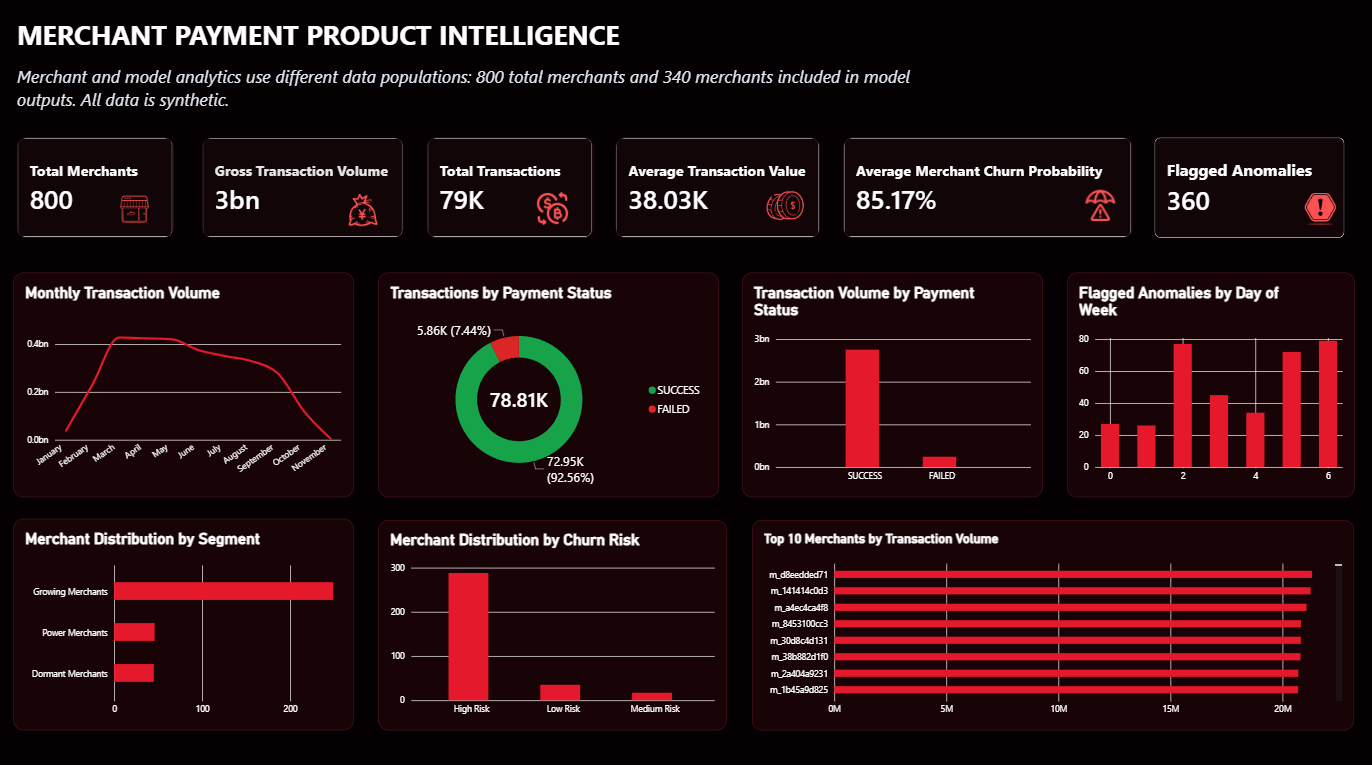

What the dashboard file says about the page in this screenshot:
{"tool":"powerbi","page":{"name":"Page 1","canvas":[1920,1080],"ordinal":0},"visuals":[{"type":"cardVisual","fields":{"Data":["Churn model.Total Transaction Volume"]},"box":[286.7,198.3,281.7,140],"z":0},{"type":"cardVisual","fields":{"Data":["Churn model.Total Transactions"]},"box":[600,198.3,231.7,140],"z":1000},{"type":"cardVisual","fields":{"Data":["Avg(Fact_Churn.churn_probability)"]},"box":[1181.7,198.3,403.3,140],"z":2000},{"type":"cardVisual","fields":{"Data":["Churn model.Average Transaction Value"]},"box":[863.3,198.3,285,140],"z":3000},{"type":"cardVisual","title":"Flagged Anomalies by Hour of Day","fields":{"Data":["Sum(Fact_Fraud.is_fraud)"]},"box":[1615,198.3,265,140],"z":4000},{"type":"lineChart","title":"Monthly Transaction Volume","fields":{"Category":["Fact_Transactions.transaction_timestamp.Variation.Date Hierarchy.Month"],"Y":["Sum(Fact_Transactions.amount)"]},"box":[23.3,386.7,475,313.3],"z":5000},{"type":"donutChart","title":"\tTransactions by Payment Status","fields":{"Category":["Fact_Transactions.status"],"Y":["CountNonNull(Fact_Transactions.transaction_id)"]},"box":[531.7,386.7,475,313.3],"z":6000},{"type":"clusteredBarChart","title":"\tMerchant Distribution by Segment","fields":{"Category":["Merchant_Segments.Segment_Name"],"Y":["CountNonNull(Merchant_Segments.merchant_id)"]},"box":[23.3,731.7,475,295],"z":7000},{"type":"clusteredColumnChart","title":"Merchant Distribution by Churn Risk","fields":{"Category":["Fact_Churn.Churn_Risk_Level"],"Y":["CountNonNull(Fact_Churn.merchant_id)"]},"box":[531.7,733.3,486.7,293.3],"z":8000},{"type":"clusteredColumnChart","title":"Transaction Volume by Payment Status","fields":{"Category":["Fact_Transactions.status"],"Y":["Sum(Fact_Transactions.amount)"]},"box":[1040,386.7,420,313.3],"z":9000},{"type":"clusteredBarChart","title":"Top 10 Merchants by Transaction Volume","fields":{"Category":["Fact_Transactions.merchant_id"],"Y":["Sum(Fact_Transactions.amount)"]},"box":[1053.3,733.3,840,293.3],"z":10000},{"type":"clusteredColumnChart","title":"Flagged Anomalies by Day of Week","fields":{"Category":["Fact_Fraud.day_of_week"],"Y":["Sum(Fact_Fraud.is_fraud)"]},"box":[1493.3,386.7,401.7,313.3],"z":11000},{"type":"textbox","box":[28.3,30,1495,68.3],"z":12000},{"type":"textbox","box":[28.3,98.3,1268.3,81.7],"z":13000},{"type":"cardVisual","fields":{"Data":["Churn model.Total Merchants"]},"box":[28.3,198.3,218.3,140],"z":14000},{"type":"image","box":[1811.7,271.7,68.3,48.3],"z":14002},{"type":"image","box":[1495,270,90,48.3],"z":14003},{"type":"image","box":[1050,251.7,98.3,85],"z":14004},{"type":"image","box":[740,270,71.7,55],"z":14005},{"type":"image","box":[476.7,271.7,68.3,55],"z":14006},{"type":"image","box":[150,271.7,83.3,53.3],"z":14007}]}

Visuals, with their boxes in screenshot pixels (x1, y1, x2, y2), scaled from the page's 1920x1080 canvas onto the 1372x765 screenshot:
cardVisual - Churn model.Total Transaction Volume: l=205, t=140, r=406, b=240
cardVisual - Churn model.Total Transactions: l=429, t=140, r=594, b=240
cardVisual - Avg(Fact_Churn.churn_probability): l=844, t=140, r=1133, b=240
cardVisual - Churn model.Average Transaction Value: l=617, t=140, r=821, b=240
"Flagged Anomalies by Hour of Day" cardVisual: l=1154, t=140, r=1343, b=240
"Monthly Transaction Volume" lineChart: l=17, t=274, r=356, b=496
"	Transactions by Payment Status" donutChart: l=380, t=274, r=719, b=496
"	Merchant Distribution by Segment" clusteredBarChart: l=17, t=518, r=356, b=727
"Merchant Distribution by Churn Risk" clusteredColumnChart: l=380, t=519, r=728, b=727
"Transaction Volume by Payment Status" clusteredColumnChart: l=743, t=274, r=1043, b=496
"Top 10 Merchants by Transaction Volume" clusteredBarChart: l=753, t=519, r=1353, b=727
"Flagged Anomalies by Day of Week" clusteredColumnChart: l=1067, t=274, r=1354, b=496
textbox: l=20, t=21, r=1089, b=70
textbox: l=20, t=70, r=927, b=128
cardVisual - Churn model.Total Merchants: l=20, t=140, r=176, b=240
image: l=1295, t=192, r=1343, b=227
image: l=1068, t=191, r=1133, b=225
image: l=750, t=178, r=821, b=238
image: l=529, t=191, r=580, b=230
image: l=341, t=192, r=389, b=231
image: l=107, t=192, r=167, b=230
